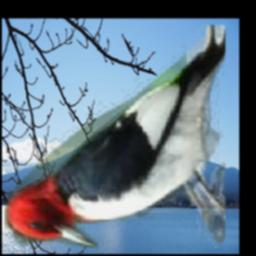Woodpecker: (5, 26, 225, 250)
